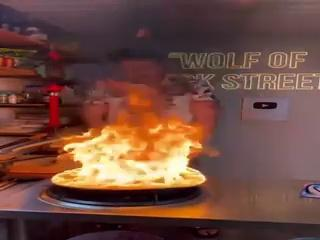Fire: (59, 78, 203, 186)
